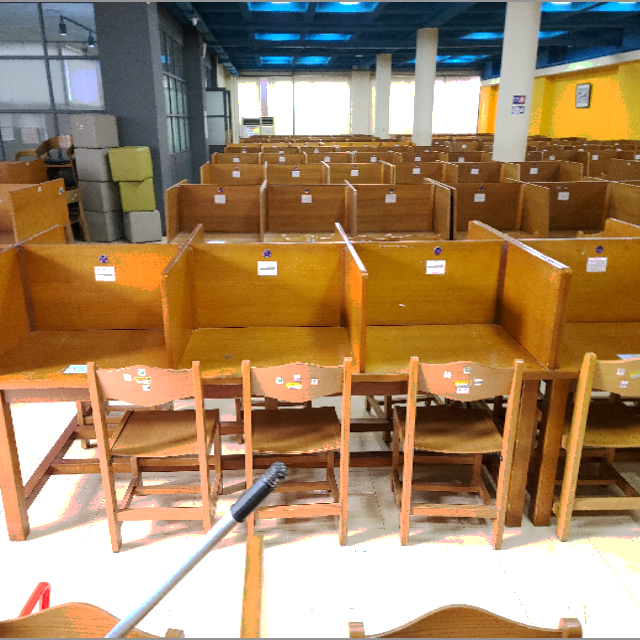empty: (169, 231, 363, 446), (367, 228, 553, 450), (1, 235, 167, 456)
